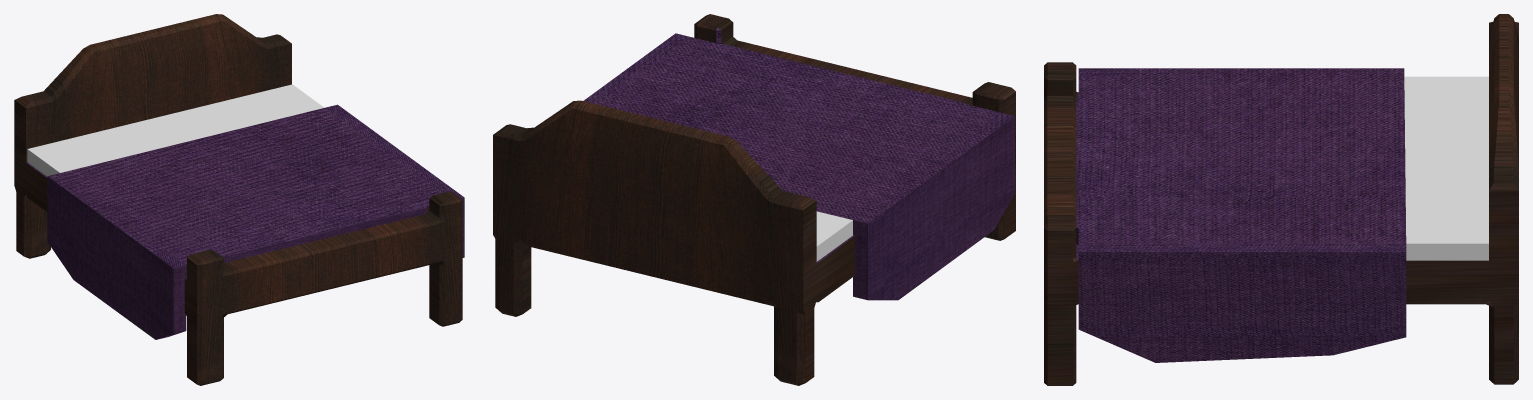
The model's file is Bed(Double).fbx.
3 views of the same model, side by side, from view 1: azimuth 30°, elevation 25°; view 2: azimuth 150°, elevation 25°; view 3: azimuth 270°, elevation 25° (orthographic). The views are drawn at different scales.
Visible parts, largest first — view 1: Bed1; view 2: Bed1; view 3: Bed1.
Part boxes in pixels (<box>): Bed1: <box>14,14,464,385</box>; Bed1: <box>493,14,1015,385</box>; Bed1: <box>1044,14,1518,385</box>.
Size of the model in its own units: 2.44 by 1.55 by 2.67.
4 materials, 3 textured.
